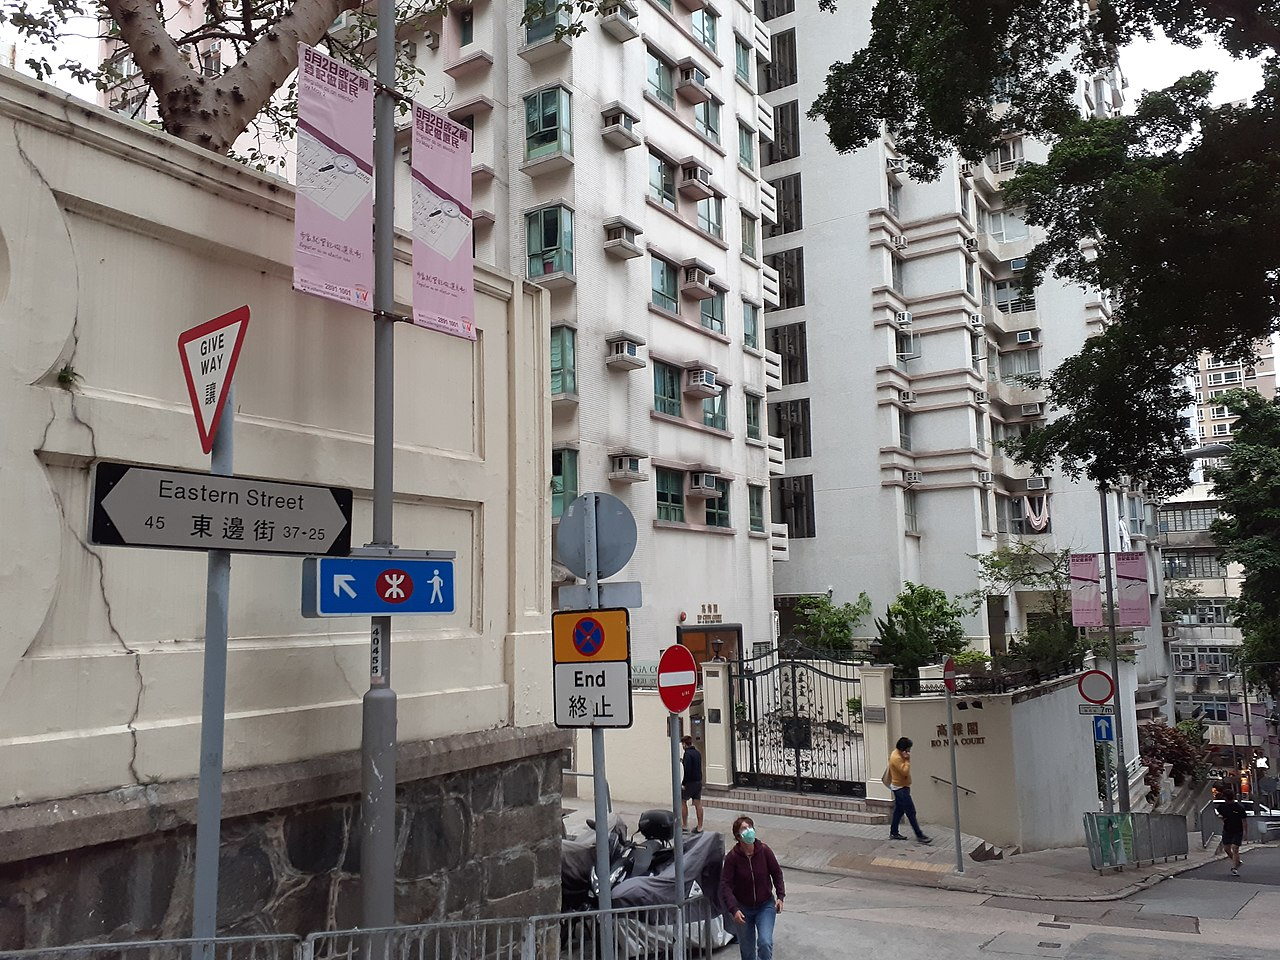End Of No Stopping: (545, 603, 637, 737)
Give Way: (172, 310, 252, 463)
No Car: (1079, 662, 1122, 705)
No Enter: (650, 638, 703, 722)
One Way Traffic: (1087, 712, 1117, 748)
